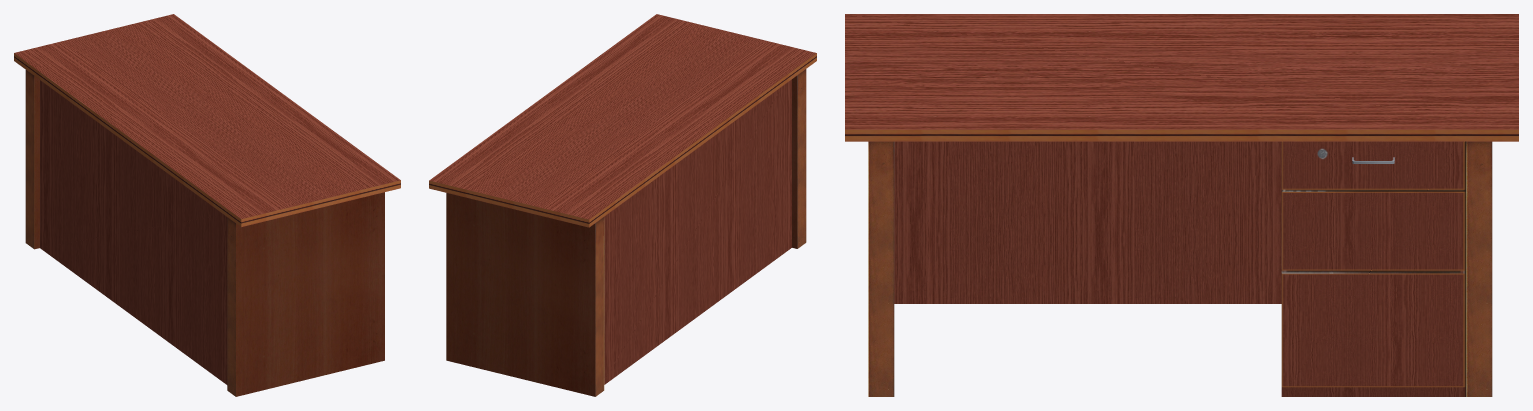
Rendered from bgz.obj.
3 renders of one model, left to right at view 1: azimuth 30°, elevation 25°; view 2: azimuth 150°, elevation 25°; view 3: azimuth 270°, elevation 25°, orthographic. The views are drawn at different scales.
Visible parts, largest first — view 1: bgz; view 2: bgz; view 3: bgz.
Boxes of the visible parts, x1,y1,x2,y2 form: bgz: (14,14,400,396); bgz: (429,14,816,396); bgz: (845,14,1518,396).
Size of the model in its own units: 0.692 by 0.7621 by 1.7.
Materials: 1 (1 with a texture image).
